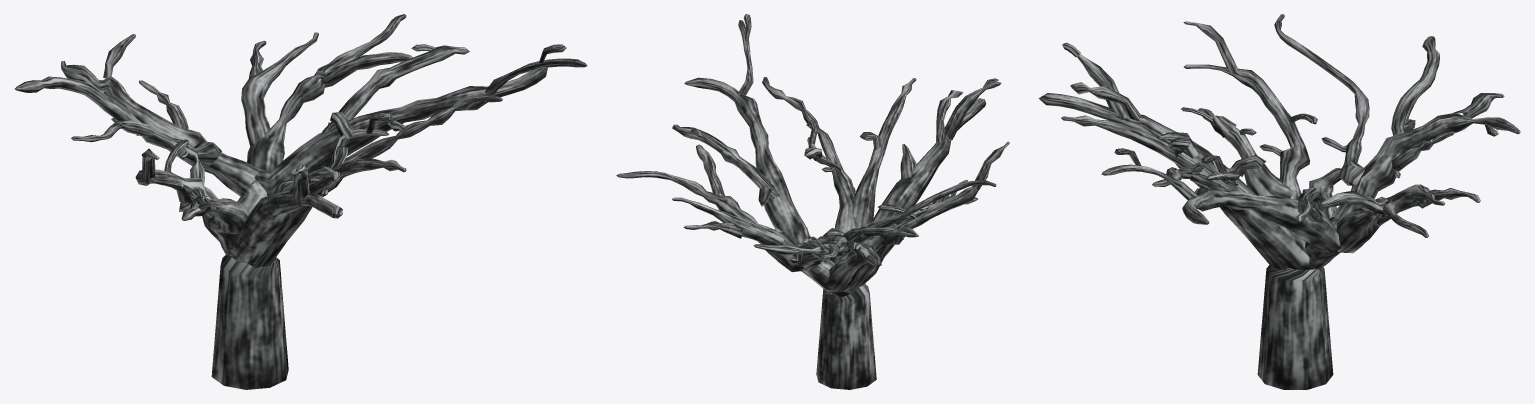
The model's file is TarTree04.glb.
The picture shows the model from 3 angles, left to right: view 1: azimuth 30°, elevation 25°; view 2: azimuth 150°, elevation 25°; view 3: azimuth 270°, elevation 25°; orthographic projection. The views are drawn at different scales.
Parts seen in each view (by area): view 1: TarTree04_limbs; view 2: TarTree04_limbs; view 3: TarTree04_limbs.
Boxes of the visible parts, left/top/right/bottom form: TarTree04_limbs: left=14, top=14, right=587, bottom=389; TarTree04_limbs: left=616, top=14, right=1009, bottom=389; TarTree04_limbs: left=1038, top=14, right=1520, bottom=389.
Bounding box in the file's own units: 9.5 × 7.3 × 9.44.
1 material, 1 textured.
